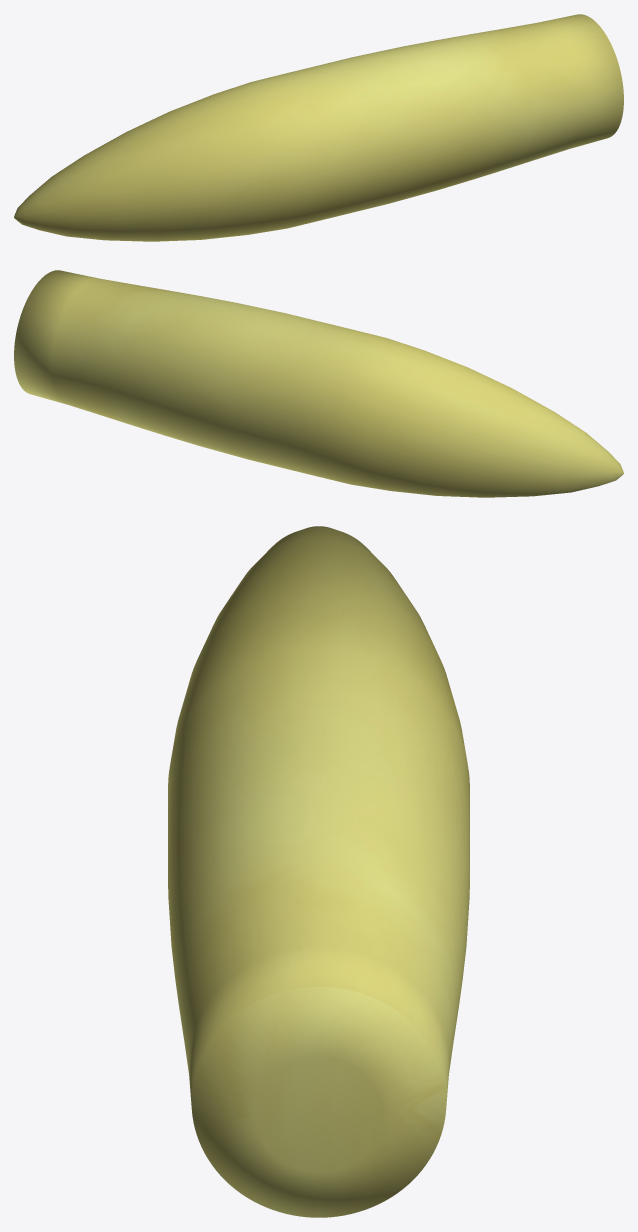
3 renders of one model, top to bottom at view 1: azimuth 30°, elevation 25°; view 2: azimuth 150°, elevation 25°; view 3: azimuth 270°, elevation 25°, orthographic. The views are drawn at different scales.
Parts seen in each view (by area): view 1: bullet_; view 2: bullet_; view 3: bullet_.
Part boxes in pixels (x1=…): bullet_: x1=14, y1=14, x2=623, y2=241; bullet_: x1=14, y1=270, x2=623, y2=497; bullet_: x1=168, y1=526, x2=469, y2=1217.
Size of the model in its own units: 578 by 128 by 128.
1 material, 1 textured.
